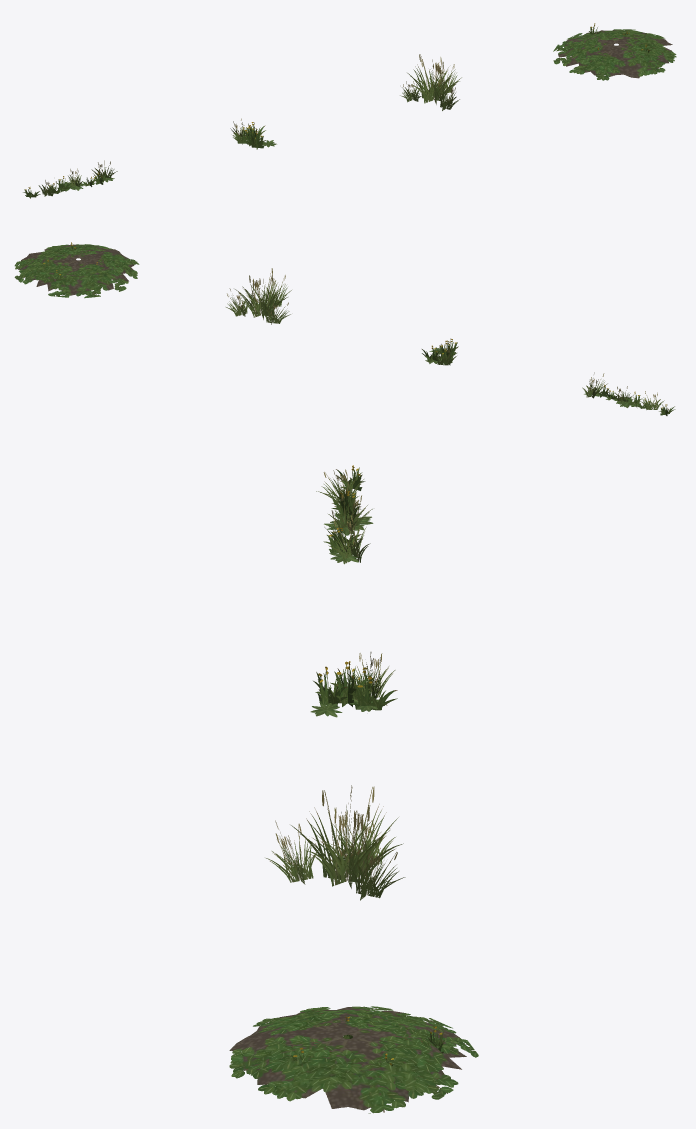
File: ground_cover.glb
The picture shows the model from 3 angles, top to bottom: view 1: azimuth 30°, elevation 25°; view 2: azimuth 150°, elevation 25°; view 3: azimuth 270°, elevation 25°; orthographic projection. The views are drawn at different scales.
Visible parts, largest first — view 1: variant_d_lod0, variant_c_lod0, variant_a_lod0, variant_b_lod0; view 2: variant_d_lod0, variant_c_lod0, variant_a_lod0, variant_b_lod0; view 3: variant_d_lod0, variant_c_lod0, variant_a_lod0, variant_b_lod0.
Boxes of the visible parts, x1=… form: variant_d_lod0: x1=553, y1=23, x2=676, y2=80; variant_c_lod0: x1=400, y1=54, x2=461, y2=110; variant_a_lod0: x1=23, y1=160, x2=117, y2=198; variant_b_lod0: x1=230, y1=118, x2=276, y2=149; variant_d_lod0: x1=14, y1=242, x2=139, y2=298; variant_c_lod0: x1=226, y1=268, x2=291, y2=324; variant_a_lod0: x1=582, y1=372, x2=675, y2=415; variant_b_lod0: x1=422, y1=338, x2=458, y2=365; variant_d_lod0: x1=229, y1=1006, x2=478, y2=1113; variant_c_lod0: x1=266, y1=785, x2=405, y2=900; variant_a_lod0: x1=316, y1=465, x2=373, y2=564; variant_b_lod0: x1=310, y1=652, x2=397, y2=717.
Size of what is drawn, in the model's own units: 7.17 by 0.4657 by 1.24.
Materials: 1 (1 with a texture image).
